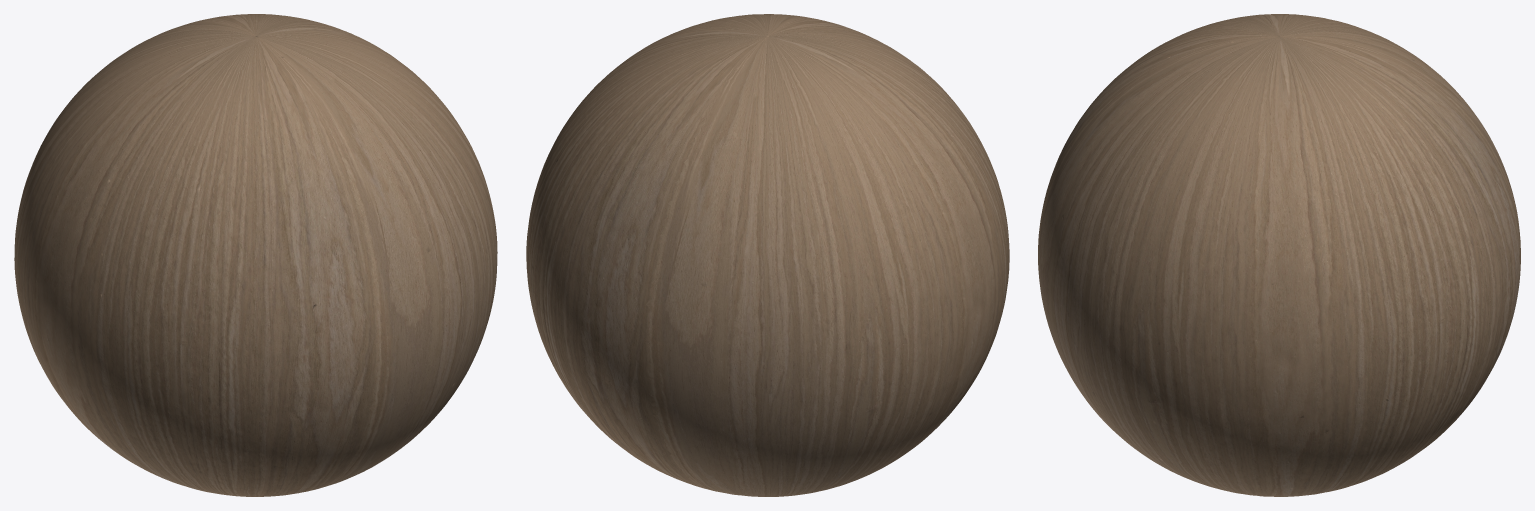
The model's file is white_oak_veneer_1k.gltf.
3 views of the same model, side by side, from view 1: azimuth 30°, elevation 25°; view 2: azimuth 150°, elevation 25°; view 3: azimuth 270°, elevation 25° (orthographic).
Parts seen in each view (by area): view 1: sphere_gltf; view 2: sphere_gltf; view 3: sphere_gltf.
Boxes of the visible parts, left/top/right/bottom form: sphere_gltf: left=14, top=14, right=497, bottom=496; sphere_gltf: left=526, top=14, right=1009, bottom=496; sphere_gltf: left=1038, top=14, right=1520, bottom=496.
Size of the model in its own units: 0.4946 by 0.4947 by 0.4946.
Materials: 1 (1 with a texture image).
